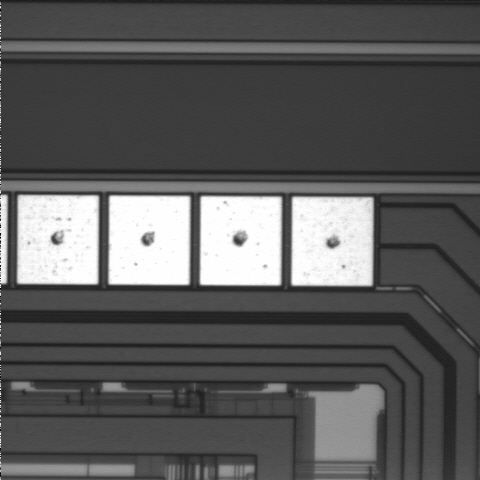pad: (17, 195, 99, 284), (200, 196, 282, 285), (291, 197, 373, 286), (109, 196, 190, 285)
